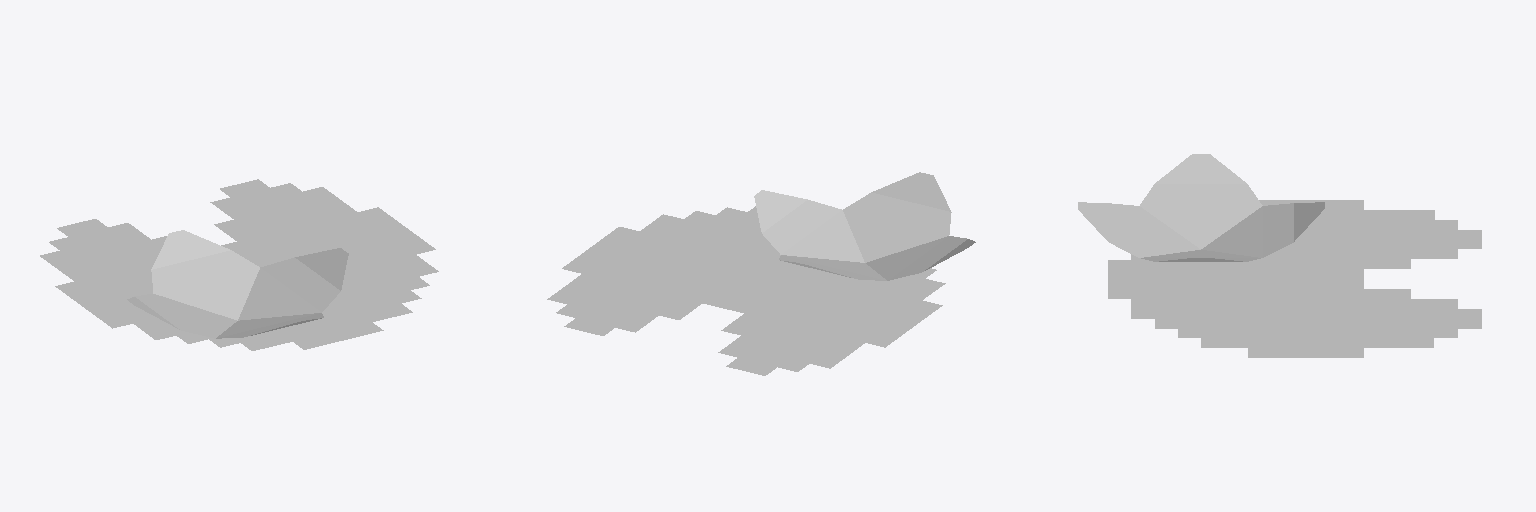
File: waterlily.obj
3 views of the same model, side by side, from view 1: azimuth 30°, elevation 25°; view 2: azimuth 150°, elevation 25°; view 3: azimuth 270°, elevation 25° (orthographic).
Parts seen in each view (by area): view 1: Plane.005, Plane.001; view 2: Plane.005, Plane.001; view 3: Plane.005, Plane.001.
Boxes of the visible parts, x1,y1,x2,y2 form: Plane.005: [40, 179, 438, 350]; Plane.001: [127, 230, 348, 338]; Plane.005: [547, 206, 945, 375]; Plane.001: [754, 172, 975, 280]; Plane.005: [1108, 200, 1481, 357]; Plane.001: [1078, 154, 1324, 261].
Size of the model in its own units: 2.03 by 0.2617 by 2.17.